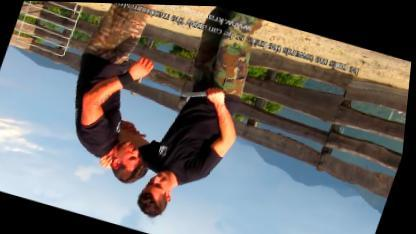knife: (179, 75, 231, 109)
